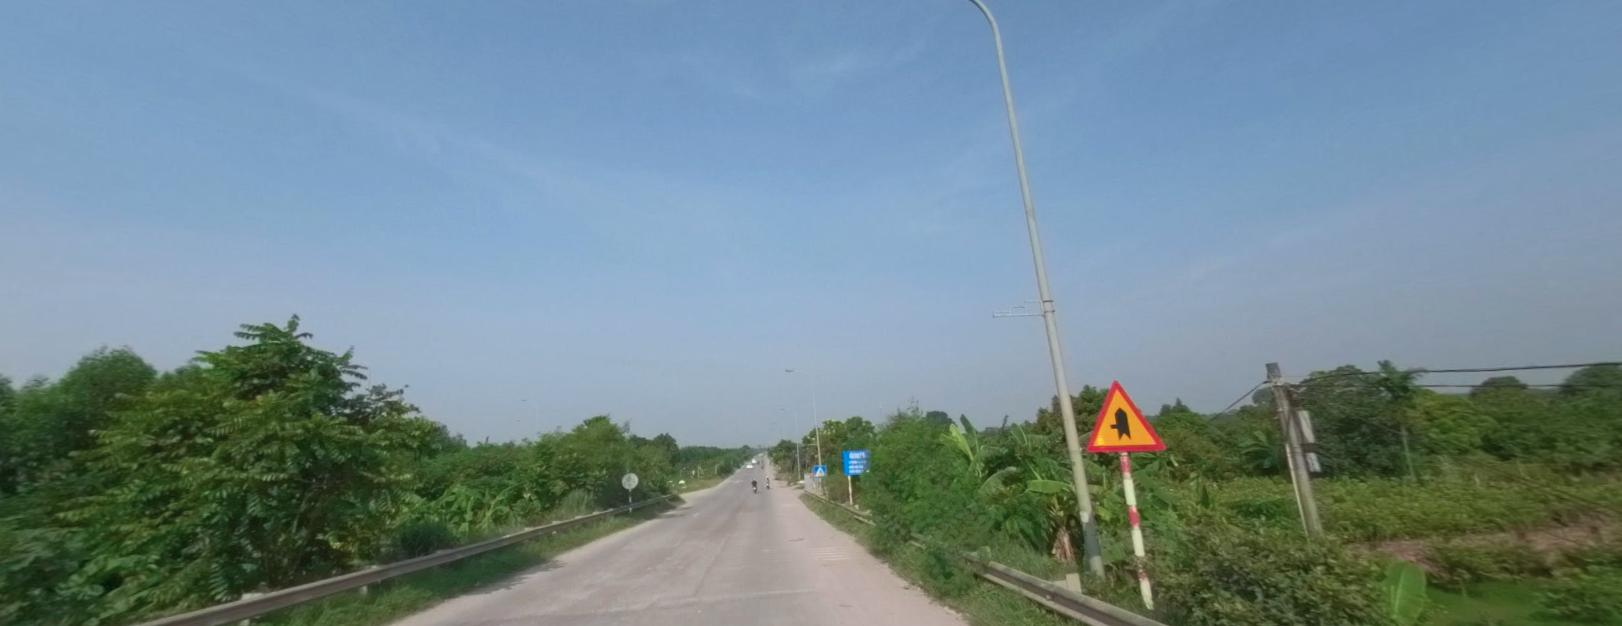Nguy hiem: (1084, 374, 1167, 452)
